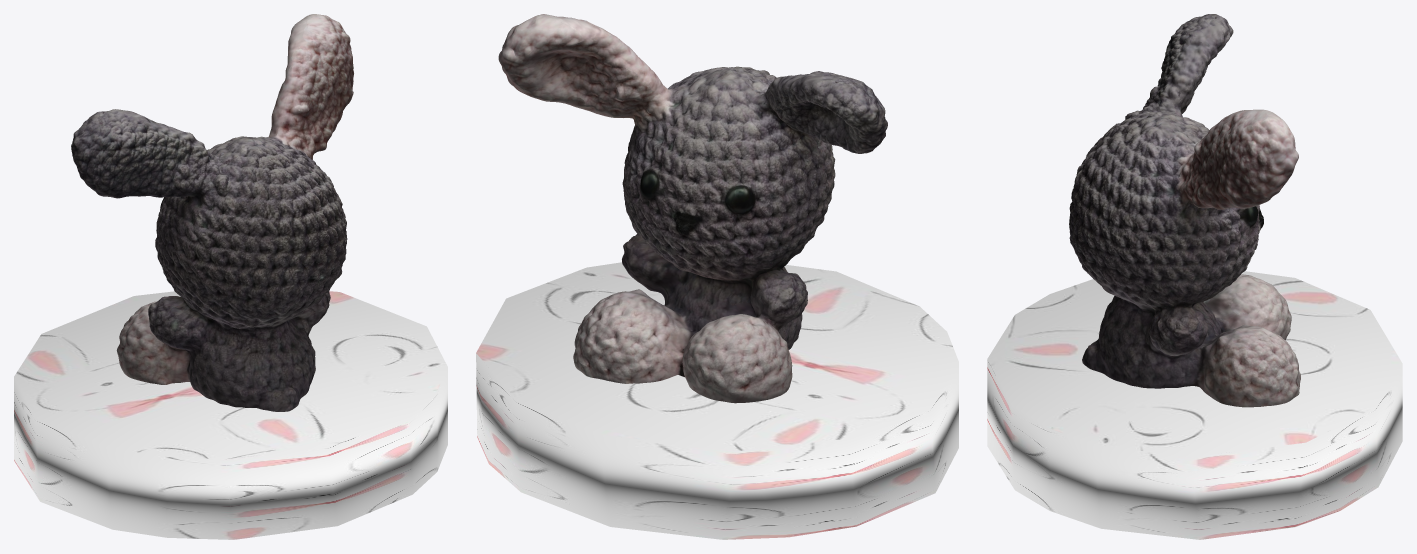
The model's file is asset.glb.
3 renders of one model, left to right at view 1: azimuth 30°, elevation 25°; view 2: azimuth 150°, elevation 25°; view 3: azimuth 270°, elevation 25°, orthographic. The views are drawn at different scales.
Parts seen in each view (by area): view 1: Cylinder, Mesh_0.004; view 2: Cylinder, Mesh_0.004; view 3: Cylinder, Mesh_0.004.
Part boxes in pixels (box(x1,y1,x2,y2)): Cylinder: box(14, 291, 447, 539); Mesh_0.004: box(71, 14, 353, 411); Cylinder: box(476, 262, 958, 539); Mesh_0.004: box(498, 14, 887, 403); Cylinder: box(987, 271, 1402, 539); Mesh_0.004: box(1069, 14, 1300, 407).
Size of the model in its own units: 1.62 by 1.53 by 1.48.
2 materials, 2 textured.
